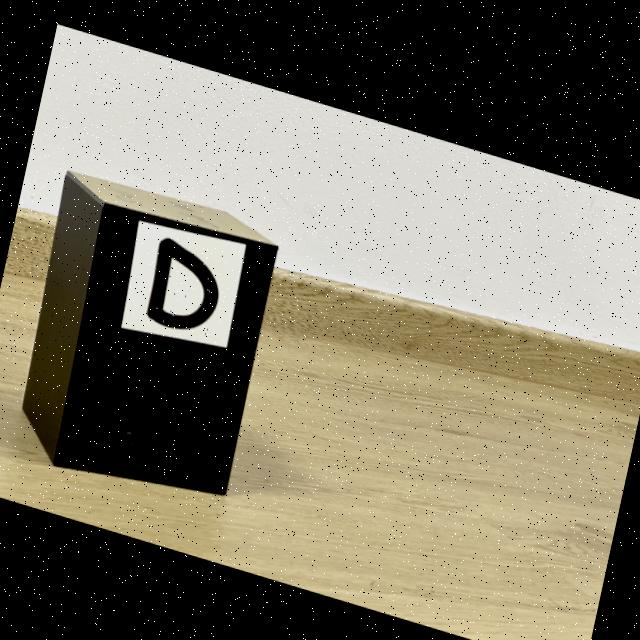D: (147, 234, 218, 325)
